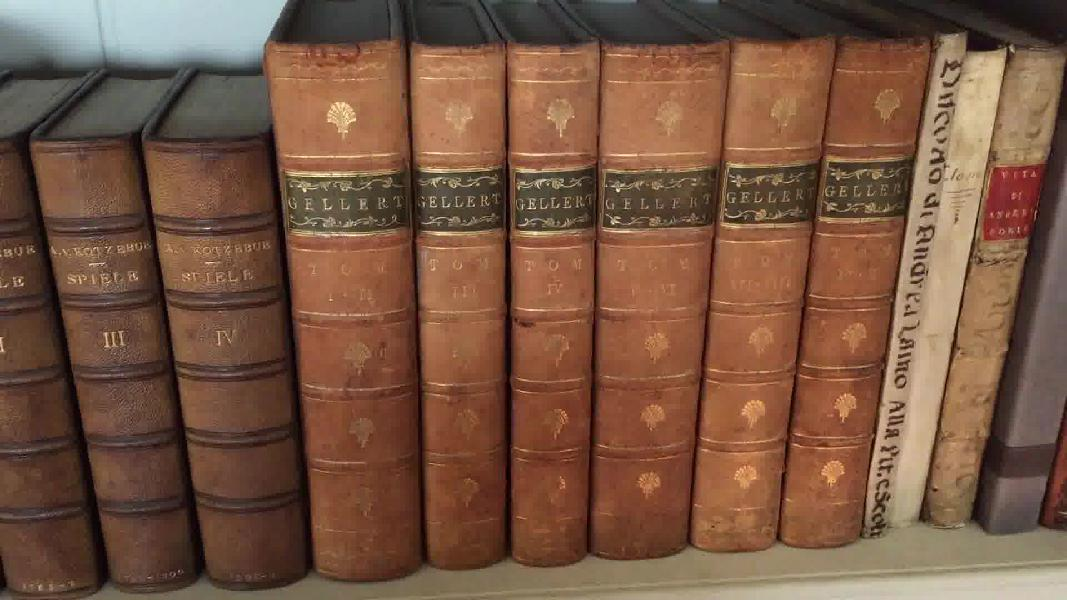Aa6-18_23: (263, 21, 921, 597)
Aa6-24: (865, 16, 977, 559)
Aa6-25: (889, 34, 1004, 528)
Aa6-26: (920, 11, 1067, 534)
